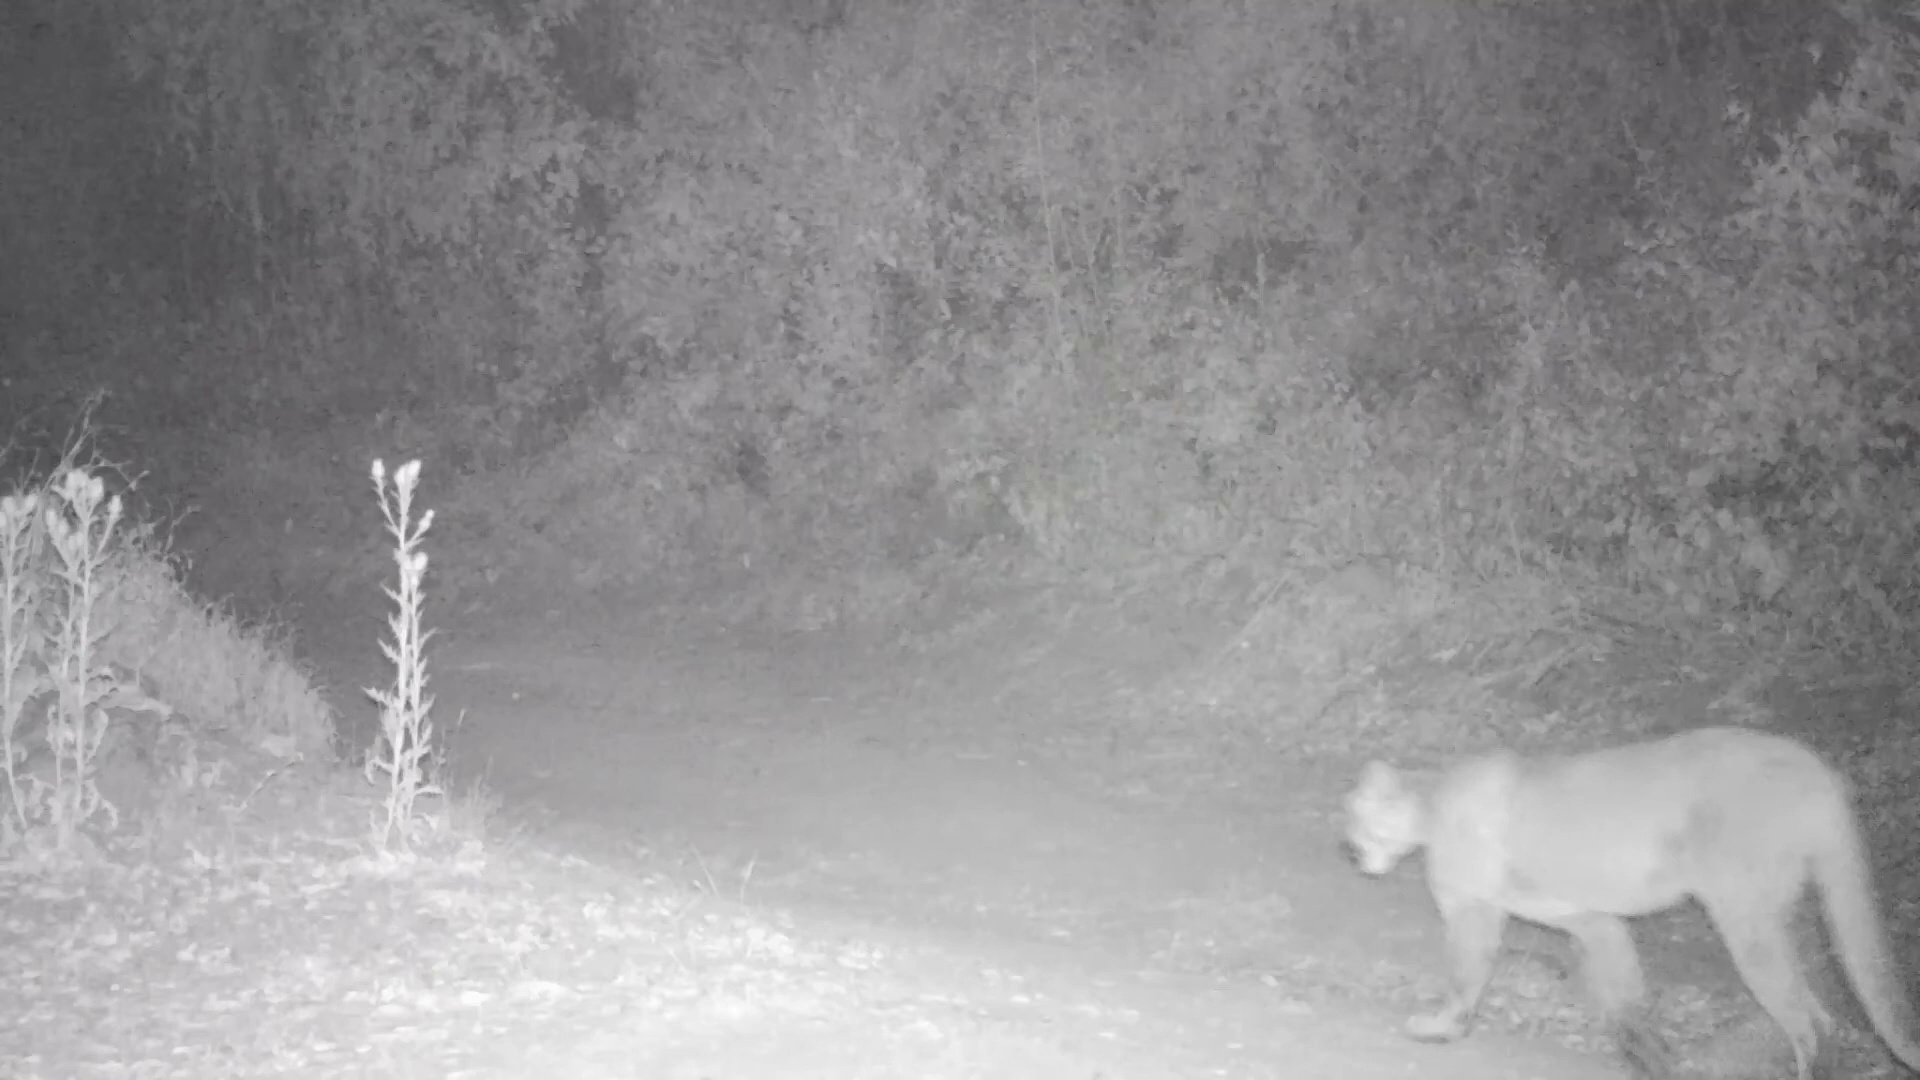Lion: (1337, 724, 1920, 1080)
